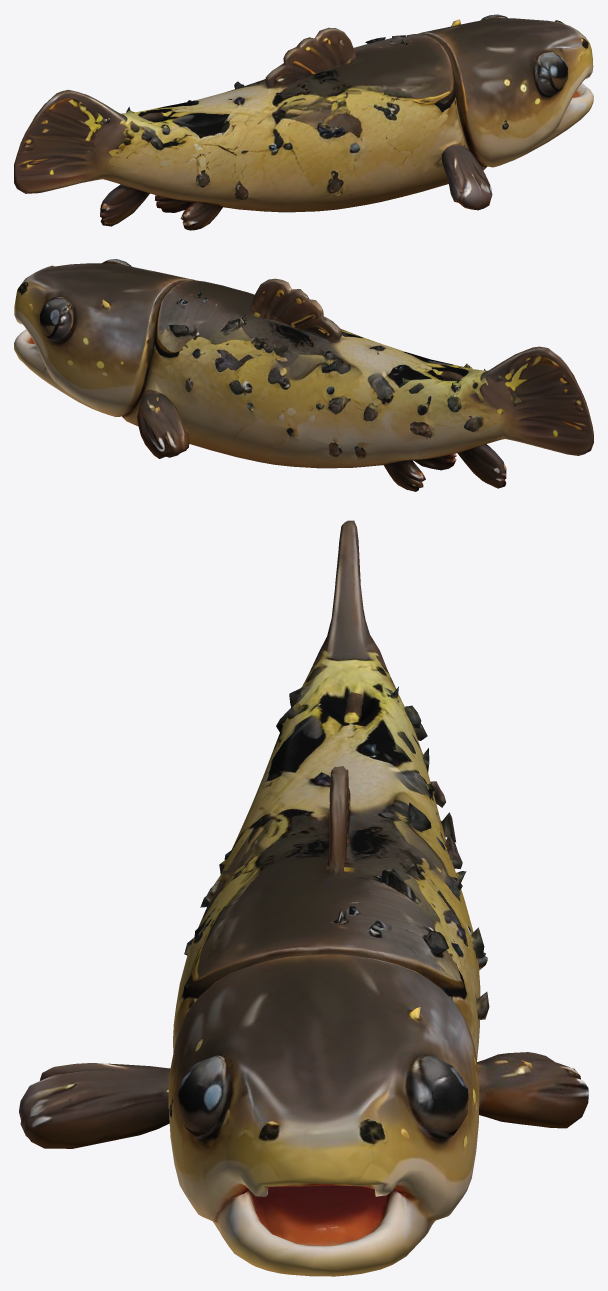
The model's file is snakehead.glb.
3 renders of one model, top to bottom at view 1: azimuth 30°, elevation 25°; view 2: azimuth 150°, elevation 25°; view 3: azimuth 270°, elevation 25°, orthographic. The views are drawn at different scales.
Visible parts, largest first — view 1: tripo_node_9c083a2b-ef49-4787-9250-5af15b43fc96; view 2: tripo_node_9c083a2b-ef49-4787-9250-5af15b43fc96; view 3: tripo_node_9c083a2b-ef49-4787-9250-5af15b43fc96.
Part boxes in pixels (<box>): tripo_node_9c083a2b-ef49-4787-9250-5af15b43fc96: <box>14,14,593,230</box>; tripo_node_9c083a2b-ef49-4787-9250-5af15b43fc96: <box>14,259,593,491</box>; tripo_node_9c083a2b-ef49-4787-9250-5af15b43fc96: <box>19,520,588,1276</box>.
Size of the model in its own units: 1 by 0.2893 by 0.4381.
Materials: 1 (1 with a texture image).
